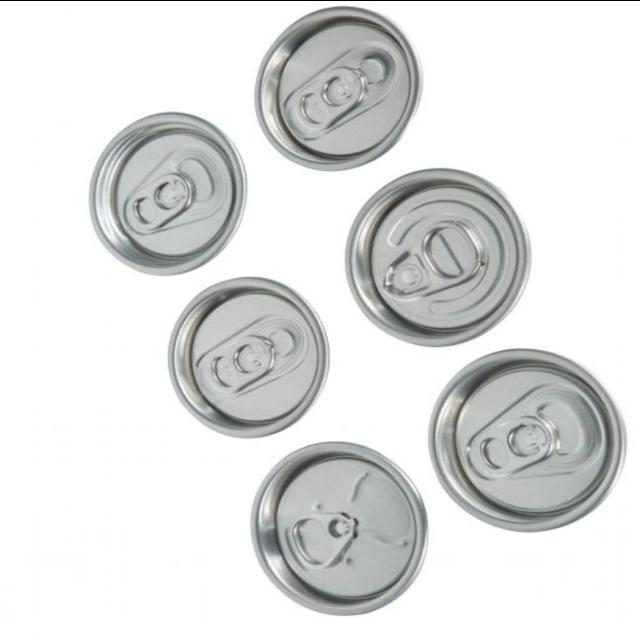can: (429, 332, 626, 544), (235, 430, 438, 630), (338, 158, 534, 350), (240, 0, 424, 190), (150, 266, 337, 450), (80, 100, 250, 288)
